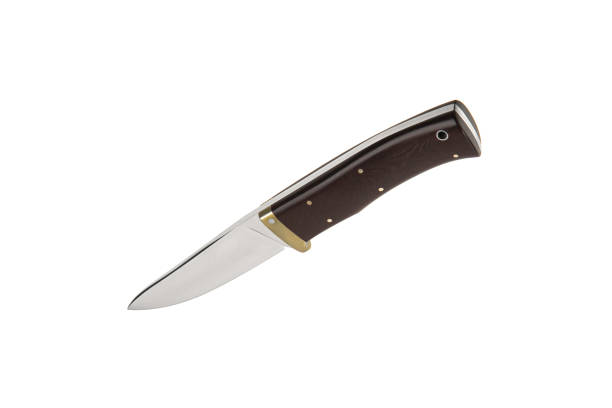knife: (125, 98, 483, 312)
